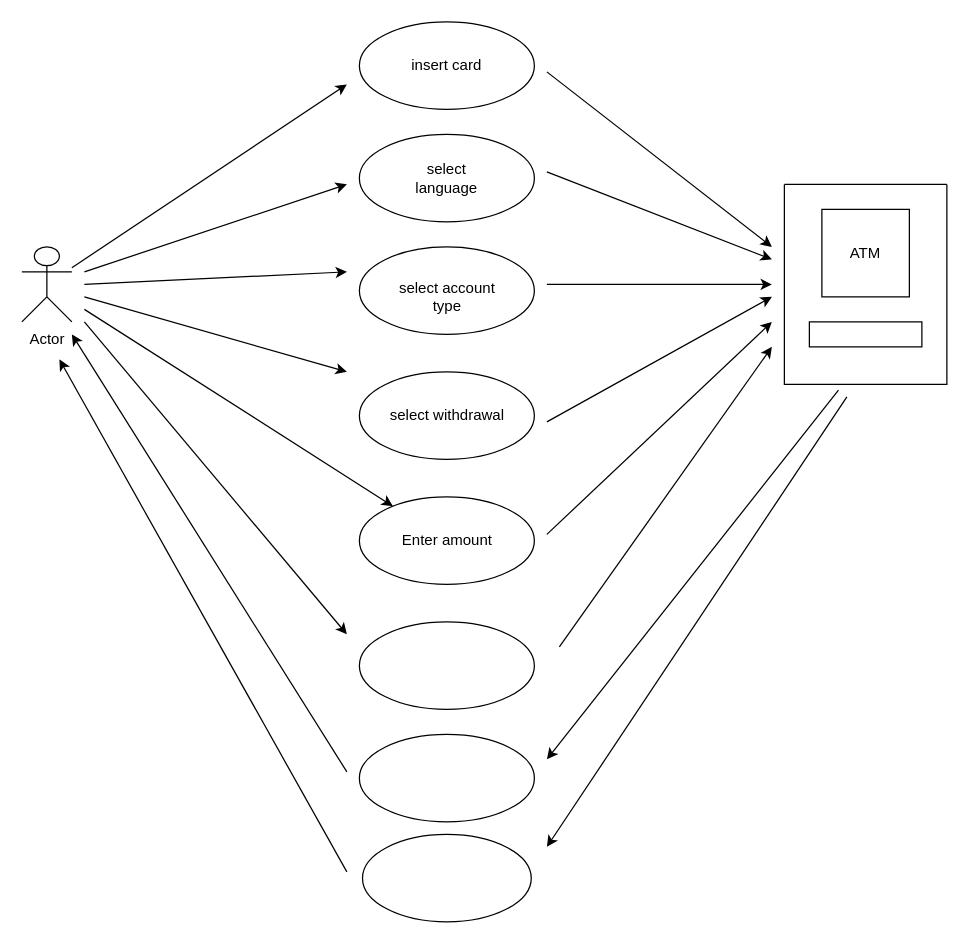
This 969x944 diagram has some shape labels left out. Here are the shapes that lost their labels. From the top down, the centre of each, then its label:
At (x=446, y=665): "Enter Pin".
At (x=446, y=777): "collect the cash".
At (x=446, y=877): "collect receipt".
